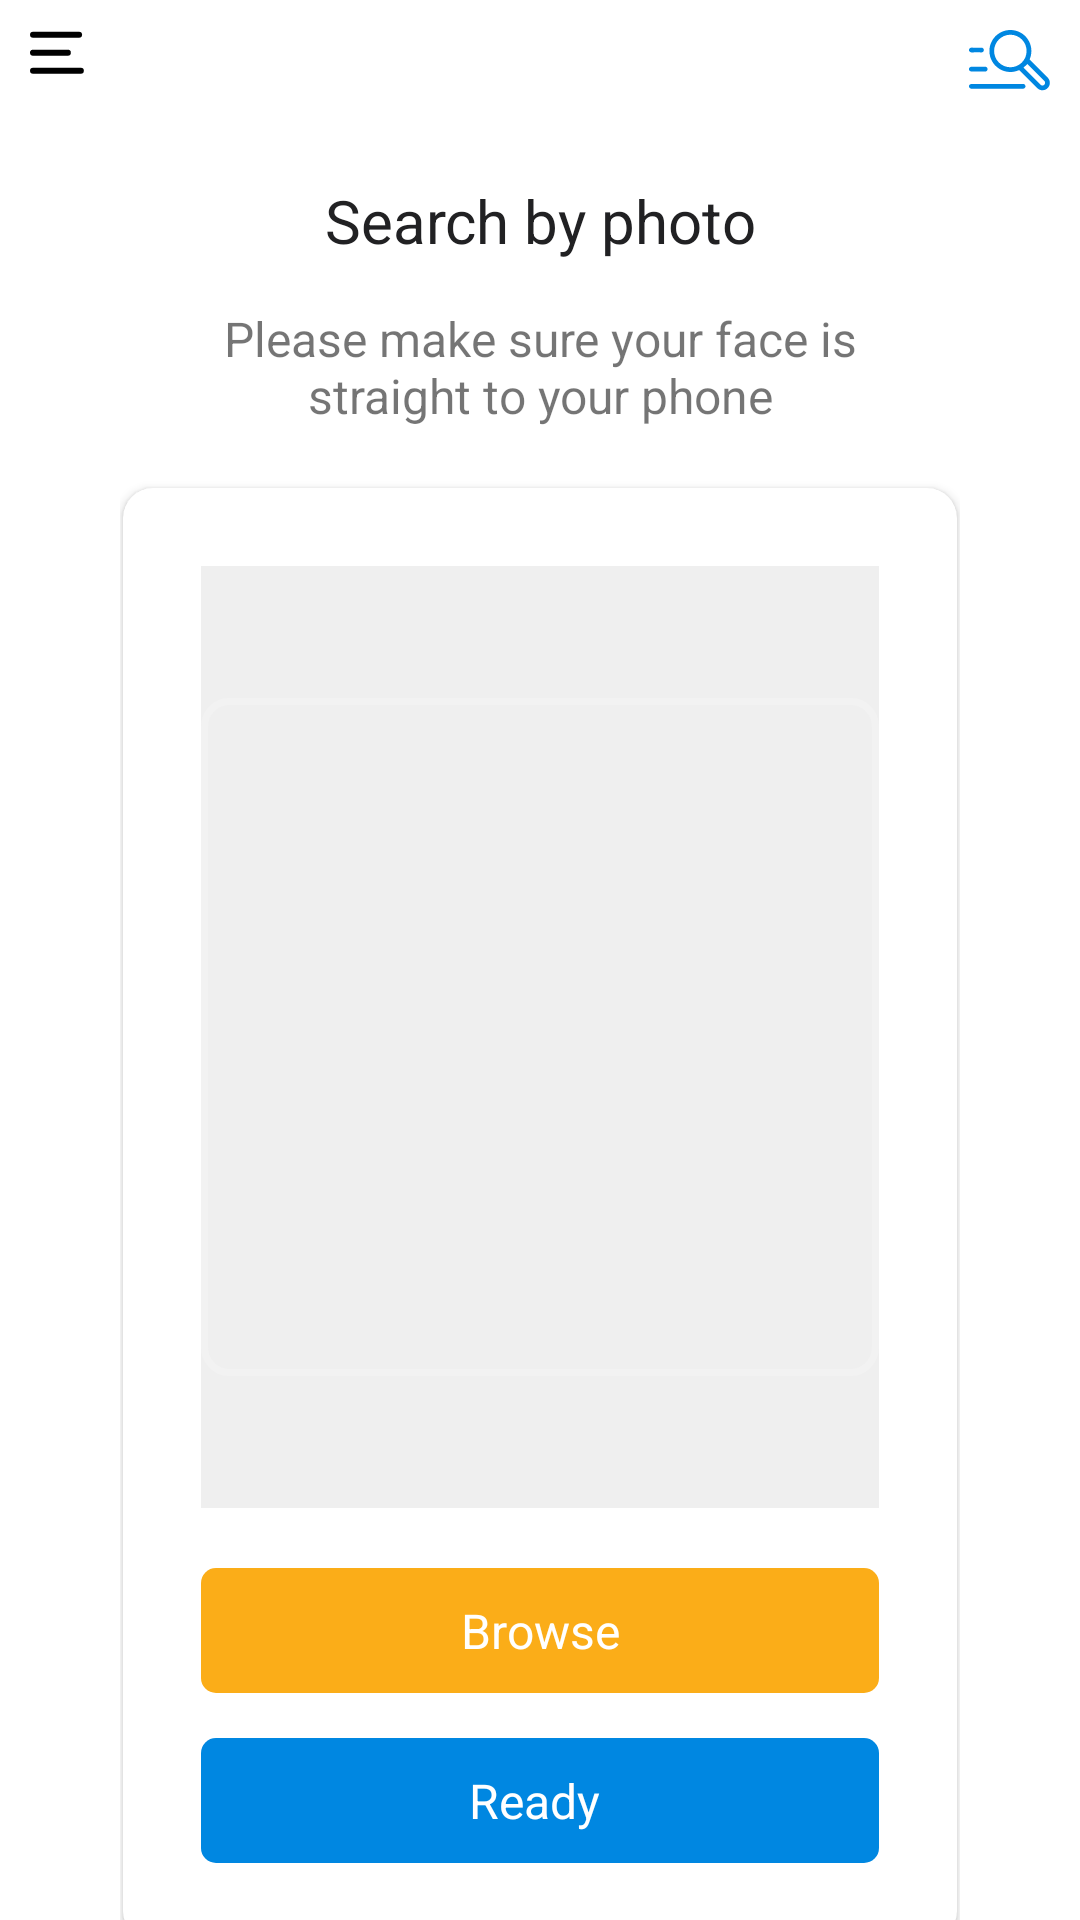

Where icons sit on this 1080px x 1920px app screen, as (x1, y1, x2, y2):
hamb: (30, 31, 84, 74)
